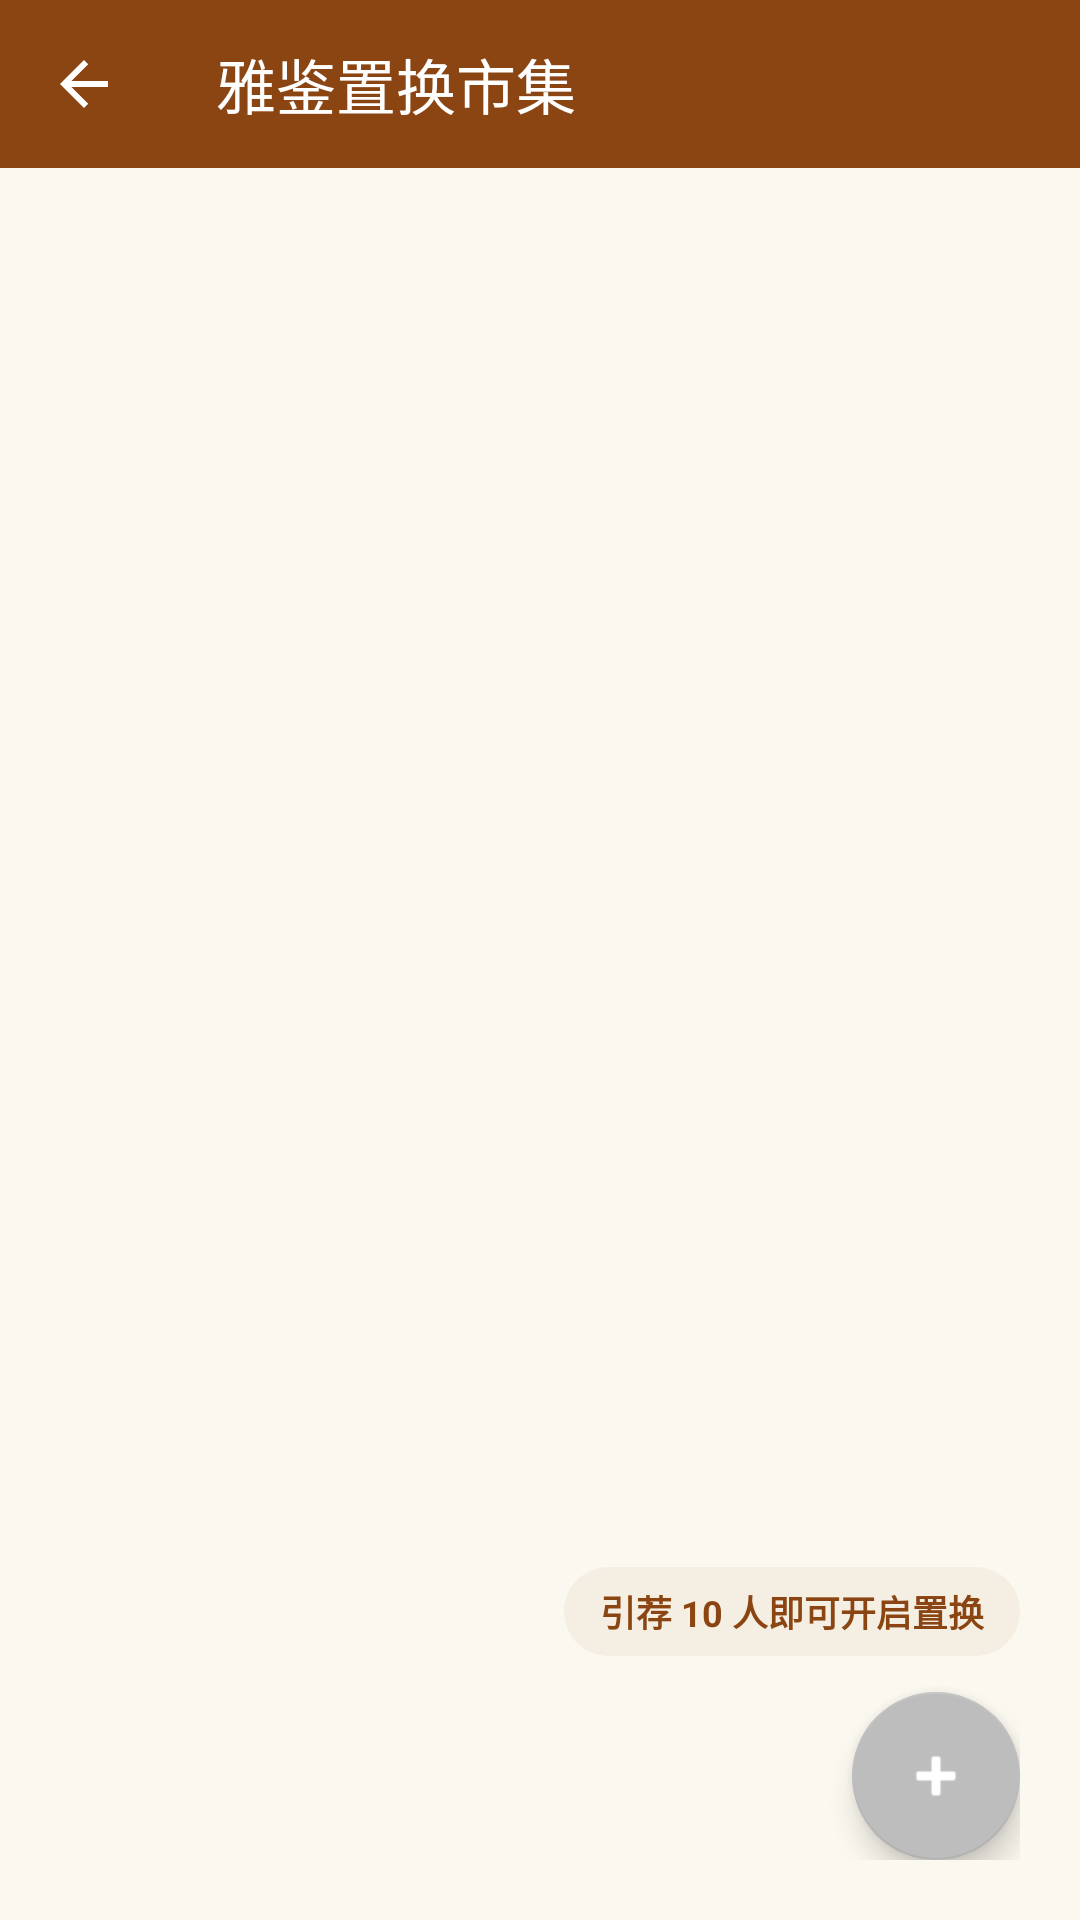

Icons on this 1080 × 1920 Android screen, each with its box as bbox(x1, y1, x2, y2):
发布置换: bbox(852, 1692, 1020, 1860)
